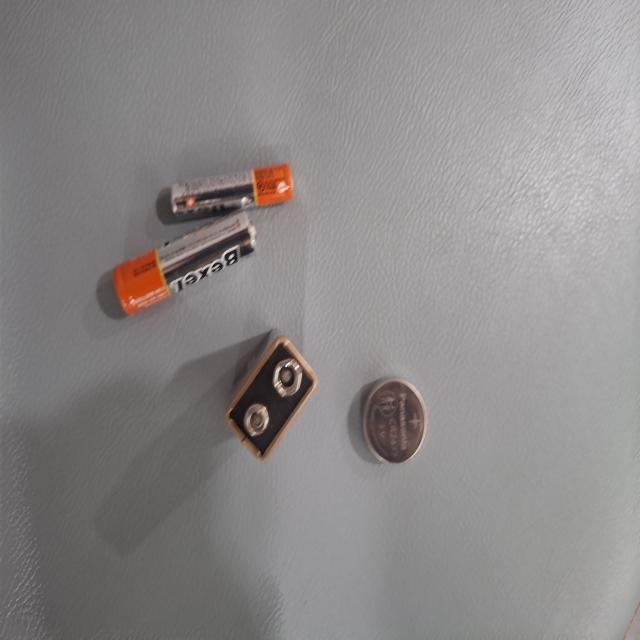9V: (250, 427, 347, 551)
AA: (156, 510, 232, 640)
AAA: (121, 464, 162, 627)
COIN: (283, 282, 349, 370)
